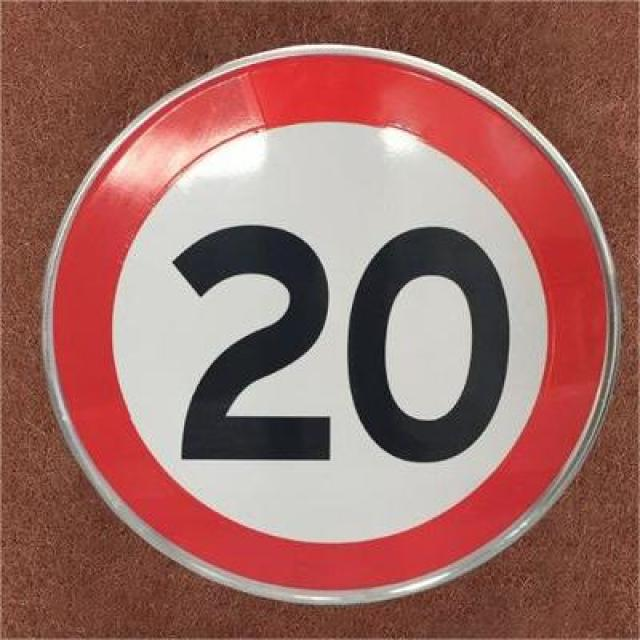speed limit 20: (40, 45, 619, 608)
